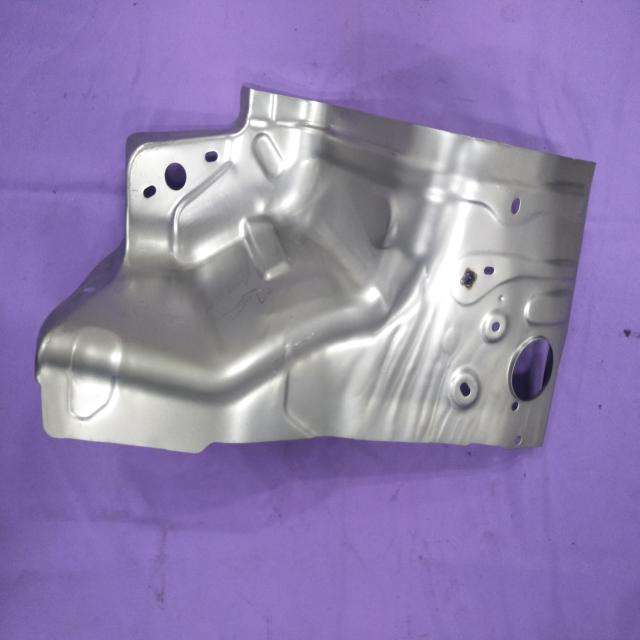Healthy: (34, 82, 596, 456)
